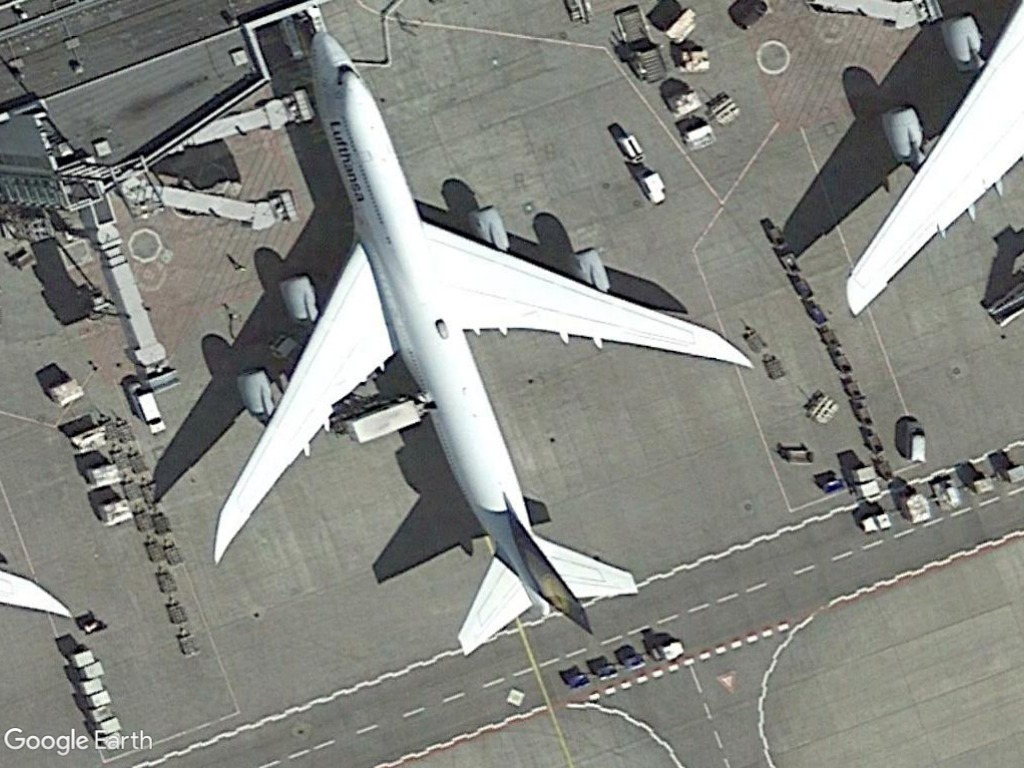airliner: (204, 28, 754, 664)
van: (132, 387, 170, 435)
